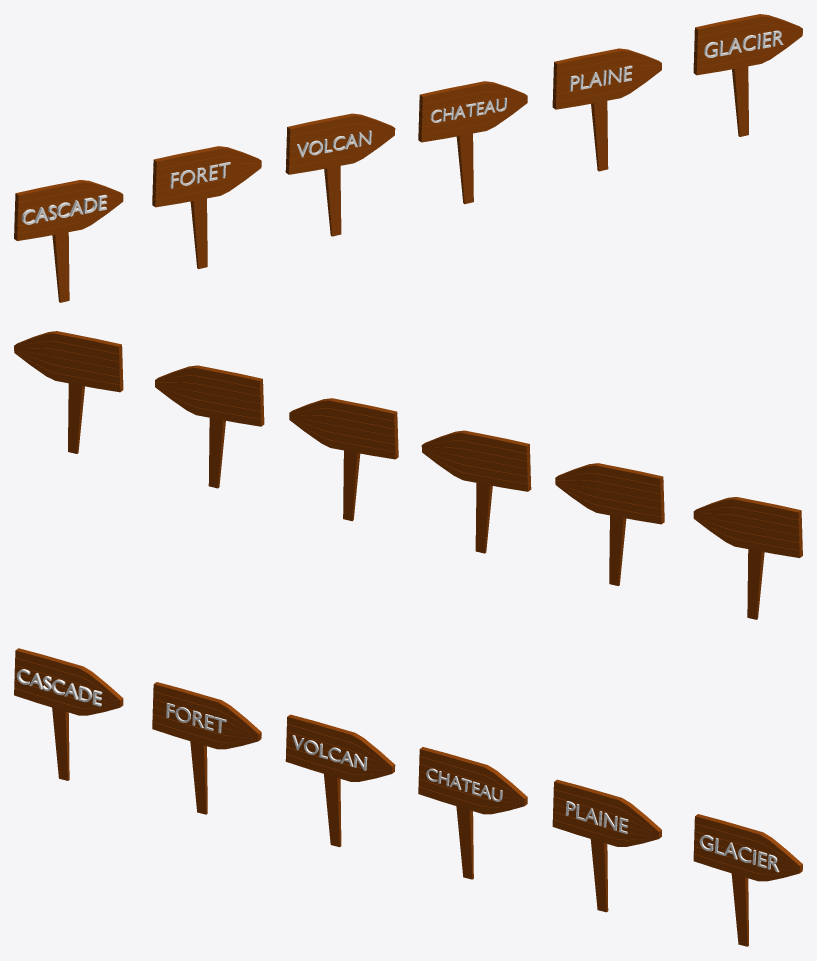
File: Pancartes.fbx
3 renders of one model, top to bottom at view 1: azimuth 30°, elevation 25°; view 2: azimuth 150°, elevation 25°; view 3: azimuth 330°, elevation 25°, orthographic.
Parts seen in each view (by area): view 1: Cube.004, Cube.005, Cube.001, Cube.003, Cube.002, Cube.006, Text.005, Text.002, Text.003, Text, Text.001, Text.004; view 2: Cube.005, Cube.004, Cube.006, Cube.001, Cube.003, Cube.002; view 3: Cube.004, Cube.005, Cube.001, Cube.003, Cube.002, Cube.006, Text.005, Text.002, Text.003, Text, Text.001, Text.004.
Boxes of the visible parts, left/top/right/bottom form: Cube.004: left=152, top=146, right=261, bottom=268; Cube.005: left=418, top=81, right=527, bottom=204; Cube.001: left=552, top=48, right=661, bottom=171; Cube.003: left=285, top=113, right=395, bottom=236; Cube.002: left=693, top=14, right=802, bottom=136; Cube.006: left=14, top=180, right=123, bottom=302; Text.005: left=21, top=194, right=107, bottom=224; Text.002: left=704, top=30, right=783, bottom=57; Text.003: left=297, top=130, right=371, bottom=157; Text: left=430, top=97, right=506, bottom=122; Text.001: left=570, top=65, right=632, bottom=91; Text.004: left=170, top=162, right=230, bottom=188; Cube.005: left=289, top=398, right=398, bottom=521; Cube.004: left=555, top=463, right=664, bottom=585; Cube.006: left=693, top=497, right=802, bottom=619; Cube.001: left=155, top=365, right=264, bottom=488; Cube.003: left=421, top=430, right=531, bottom=553; Cube.002: left=14, top=331, right=123, bottom=453; Cube.004: left=152, top=682, right=261, bottom=814; Cube.005: left=418, top=747, right=527, bottom=879; Cube.001: left=552, top=779, right=661, bottom=912; Cube.003: left=285, top=714, right=395, bottom=847; Cube.002: left=693, top=814, right=802, bottom=946; Cube.006: left=14, top=648, right=123, bottom=780; Text.005: left=16, top=669, right=102, bottom=706; Text.002: left=699, top=835, right=779, bottom=872; Text.003: left=292, top=735, right=367, bottom=770; Text: left=426, top=768, right=502, bottom=801; Text.001: left=565, top=801, right=628, bottom=834; Text.004: left=166, top=703, right=226, bottom=733.
Bounding box in the file's own units: 3105 × 447 × 34.3.
